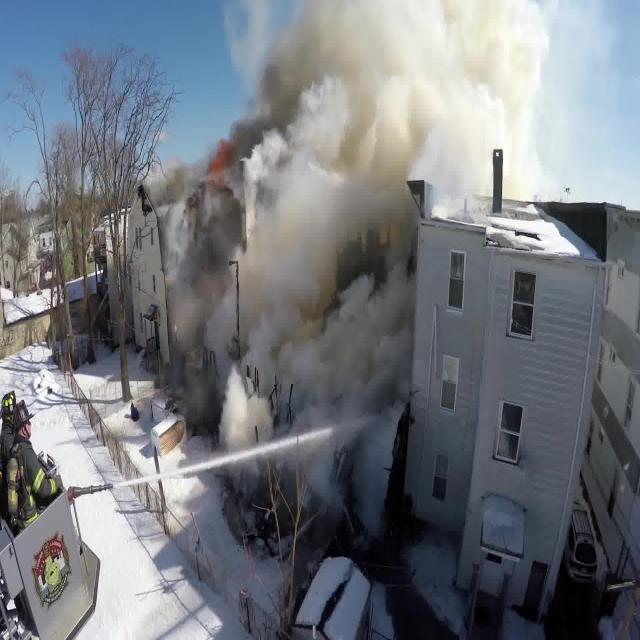Fire: (206, 124, 236, 192)
Smoke: (226, 49, 390, 512), (242, 0, 562, 190), (290, 208, 414, 434)
